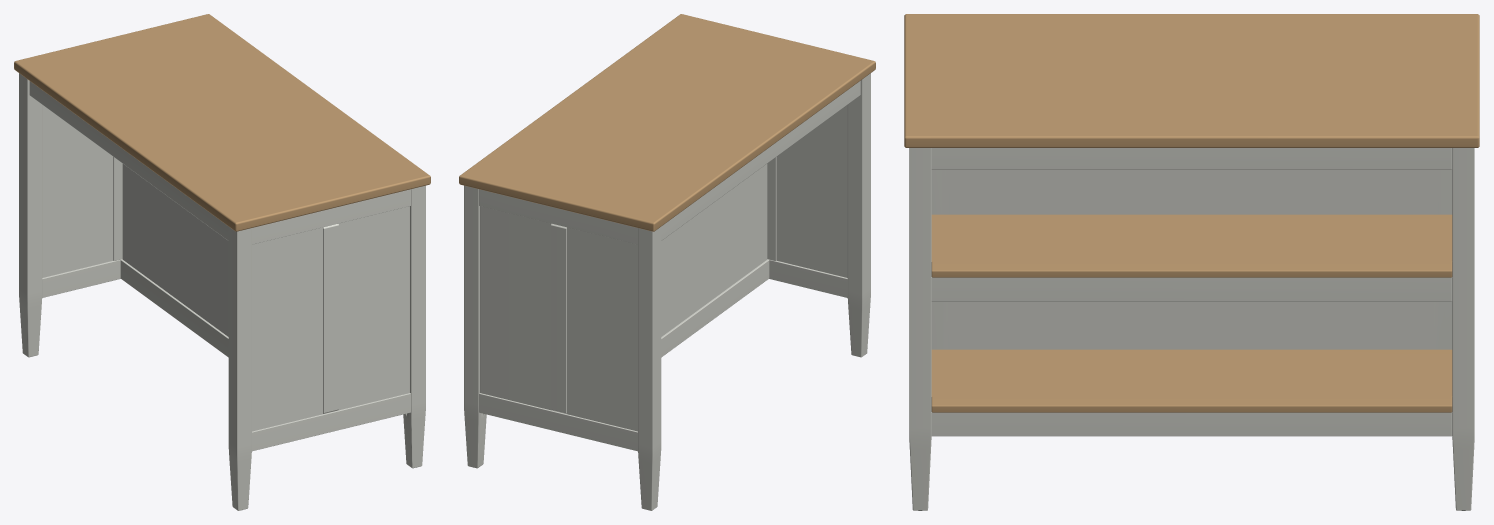
File: fixture_island_a01.glb
3 views of the same model, side by side, from view 1: azimuth 30°, elevation 25°; view 2: azimuth 150°, elevation 25°; view 3: azimuth 270°, elevation 25° (orthographic). The views are drawn at different scales.
Size of the model in its own units: 0.6313 by 0.9004 by 1.24.
